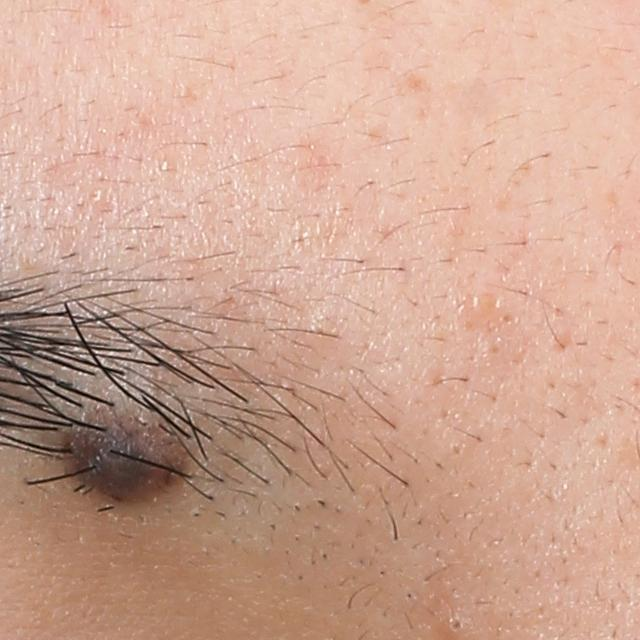nevus: (65, 415, 187, 506)
